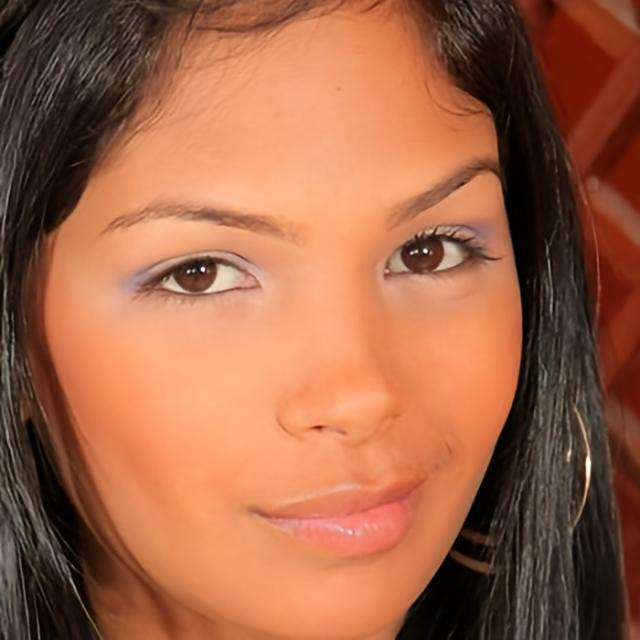content: (32, 0, 523, 637)
